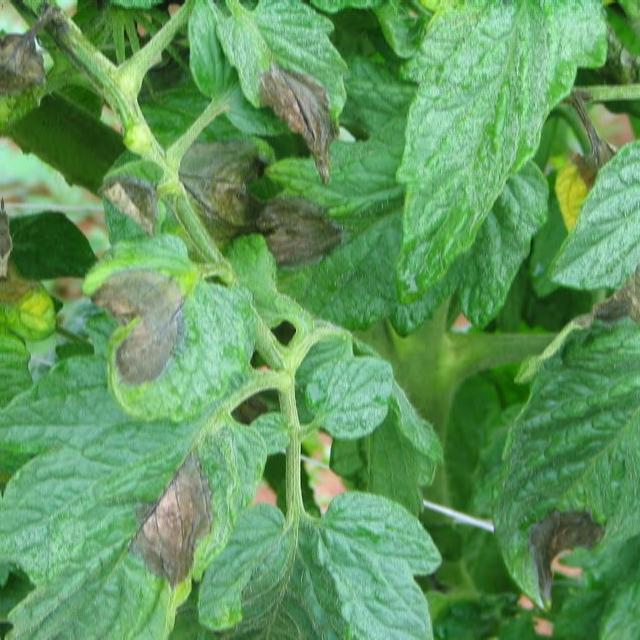Tomato leaf late blight: (0, 349, 270, 640), (80, 248, 257, 421), (218, 0, 338, 168), (0, 106, 38, 470), (0, 11, 51, 165)
